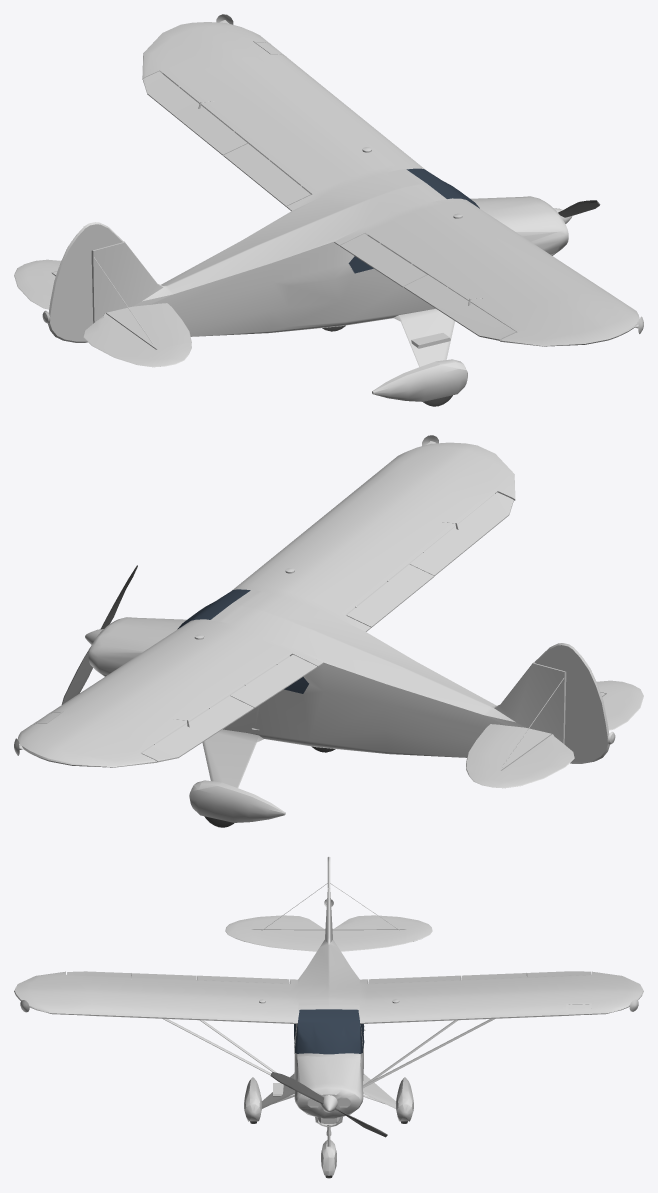
3 views of the same model, one above another, from view 1: azimuth 30°, elevation 25°; view 2: azimuth 150°, elevation 25°; view 3: azimuth 270°, elevation 25° (orthographic). The views are drawn at different scales.
Parts seen in each view (by area): view 1: body, glass; view 2: body, glass, spin; view 3: body, glass, spin.
Part boxes in pixels (box(x1,y1,x2,y2)): body: box(14, 14, 643, 401); glass: box(348, 168, 479, 273); body: box(14, 435, 643, 822); glass: box(177, 589, 308, 693); spin: box(61, 565, 137, 704); body: box(14, 857, 643, 1175); glass: box(294, 1009, 364, 1054); spin: box(270, 1072, 387, 1137).
Bounding box in the file's own units: 1.57 × 0.6268 × 2.2.
